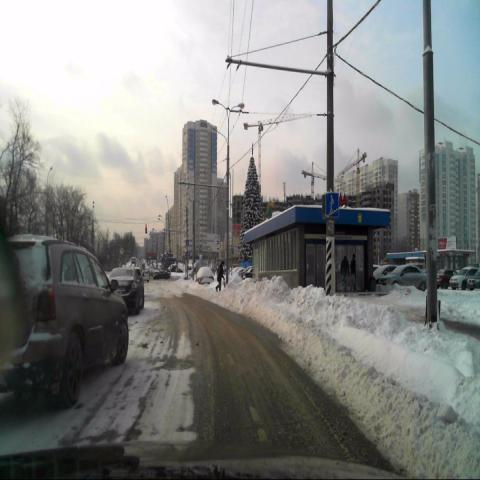6_6: (325, 192, 339, 218)
